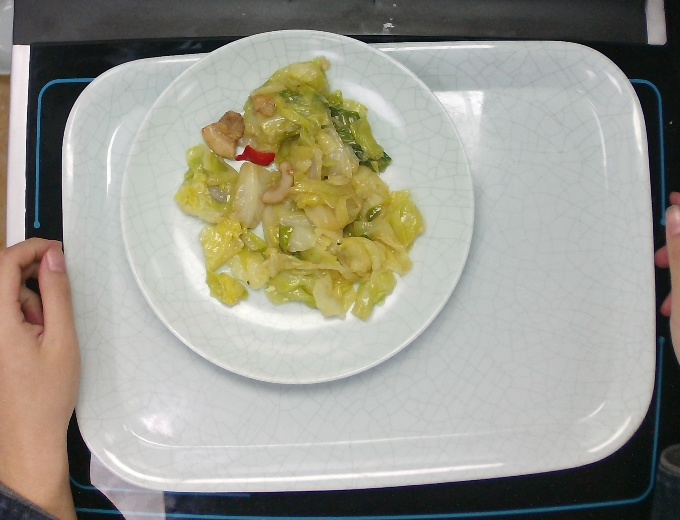JYsf-Da_Yuan_Pan: (112, 20, 482, 399)
